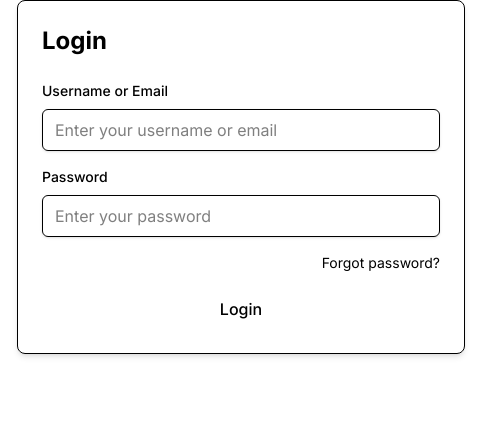
it: LoginForm › handles login errors from server
Type "wronguser" into the field labelled "Username or Email" at (241, 130), box [42,109,440,151]
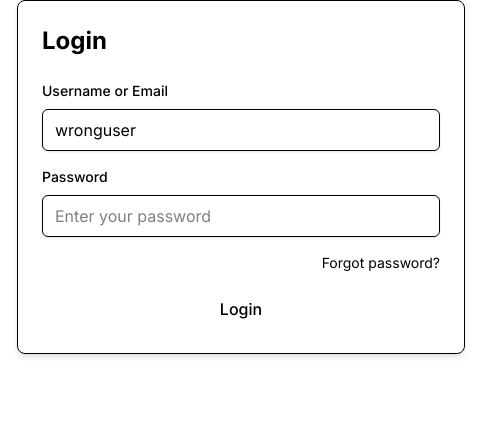
Type "wrongpass" into the password field labelled "Password" at (241, 216), box [42,195,440,237]
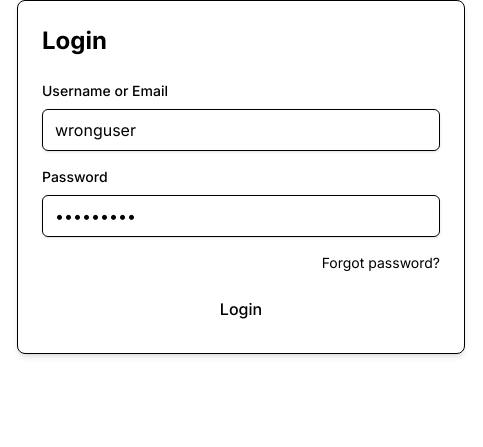
Click the button "Login" at (241, 309), box [42,289,440,329]
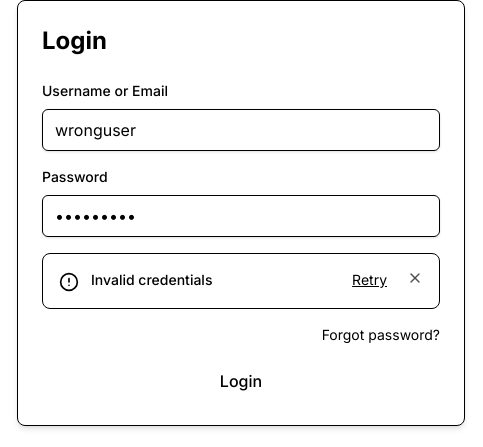
Now the text "Invalid credentials" is shown, box [91,270,212,290]
